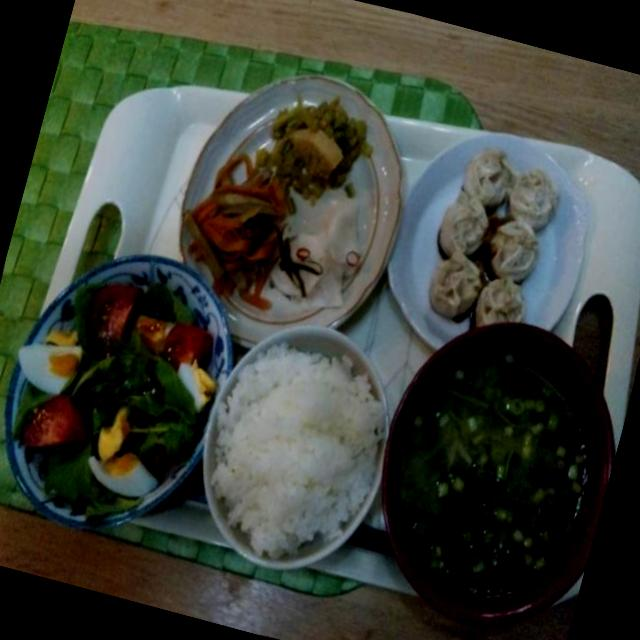Rice: (166, 297, 426, 603)
